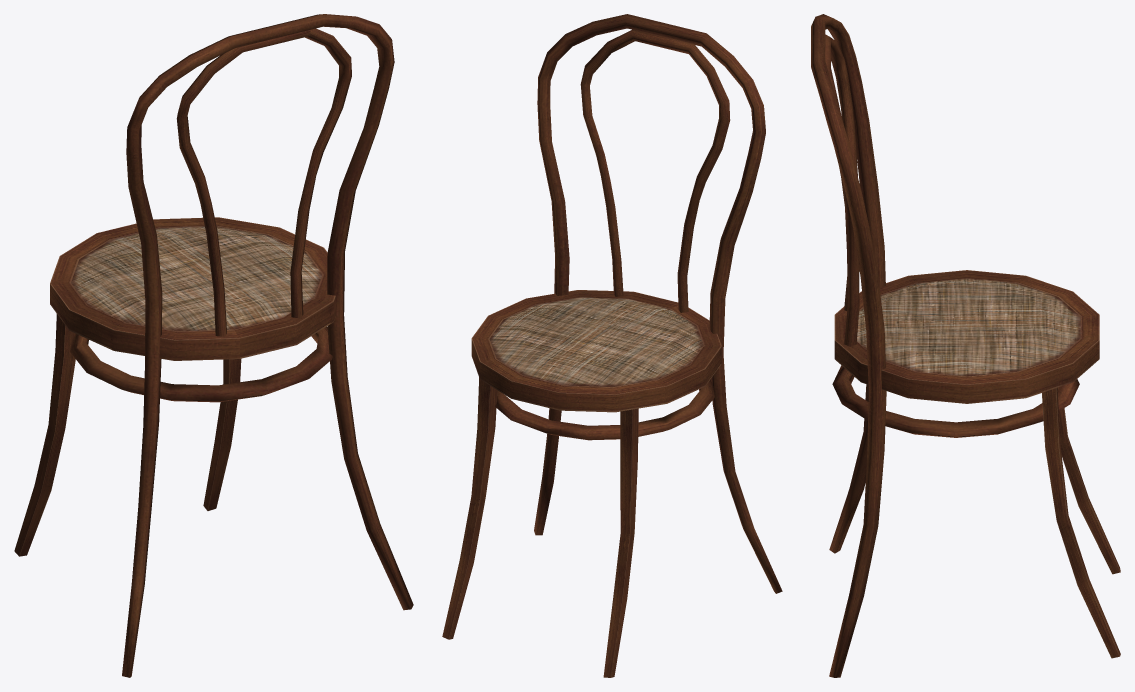
The model's file is chair03.obj.
3 views of the same model, side by side, from view 1: azimuth 30°, elevation 25°; view 2: azimuth 150°, elevation 25°; view 3: azimuth 270°, elevation 25° (orthographic). The views are drawn at different scales.
Visible parts, largest first — view 1: mesh; view 2: mesh; view 3: mesh.
Part boxes in pixels (<box>): mesh: <box>14,14,413,677</box>; mesh: <box>442,14,782,677</box>; mesh: <box>811,14,1120,677</box>.
Size of the model in its own units: 23.42 by 47.99 by 23.34.
1 material, 1 textured.
